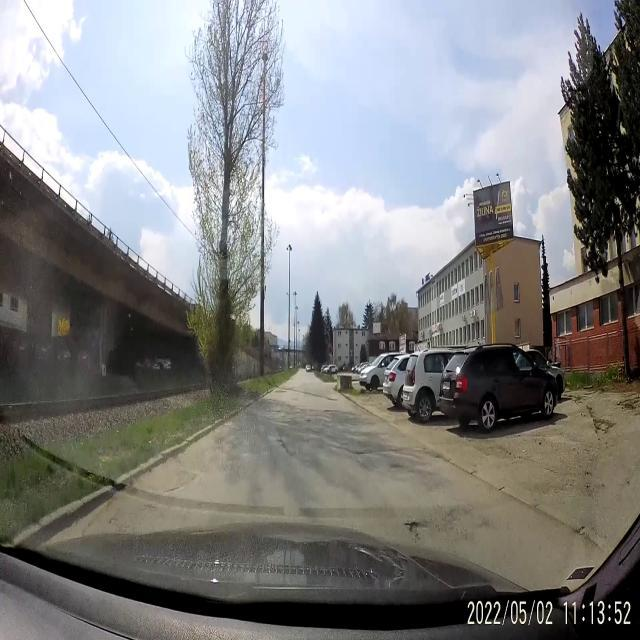Pothole: (398, 510, 428, 542), (278, 434, 296, 464), (346, 446, 368, 469), (386, 459, 408, 472)
